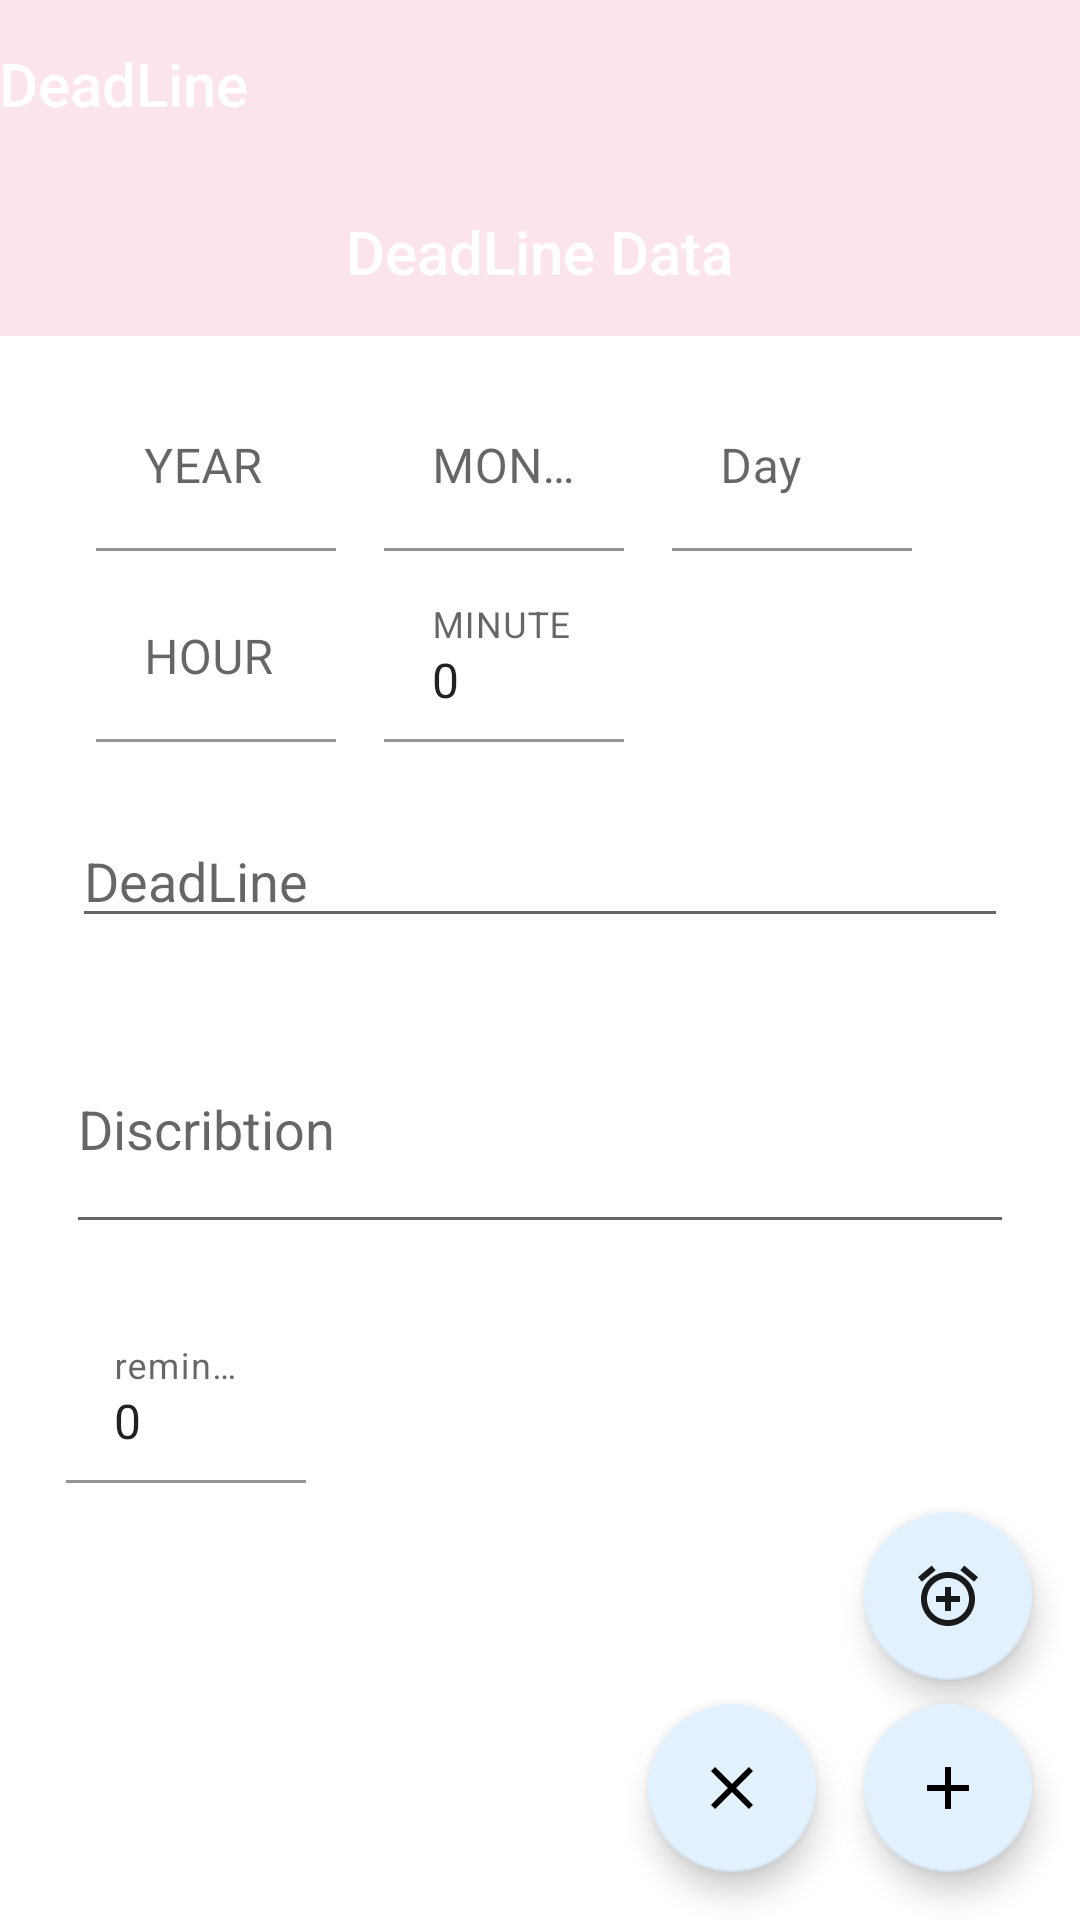

Where icons sit on this 1080×1920 app screen, as bbox=(x1, y1, x2, y2):
add: bbox=(864, 1706, 1032, 1872)
alarm add: bbox=(864, 1513, 1032, 1680)
clear: bbox=(648, 1705, 816, 1872)
